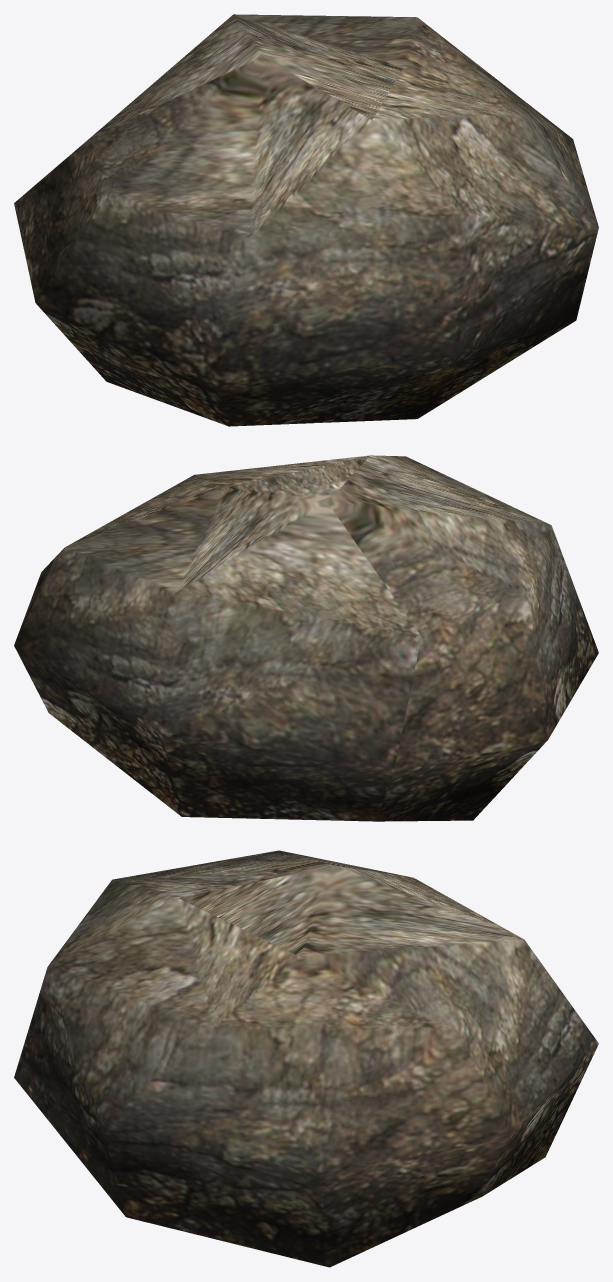
File: rock.dae
The picture shows the model from 3 angles, top to bottom: view 1: azimuth 30°, elevation 25°; view 2: azimuth 150°, elevation 25°; view 3: azimuth 270°, elevation 25°; orthographic projection. The views are drawn at different scales.
Parts seen in each view (by area): view 1: pCube1; view 2: pCube1; view 3: pCube1.
Part boxes in pixels (<box>): pCube1: <box>14,14,598,426</box>; pCube1: <box>14,455,598,821</box>; pCube1: <box>14,850,598,1267</box>.
Size of the model in its own units: 0.9973 by 0.5742 by 0.9311.
